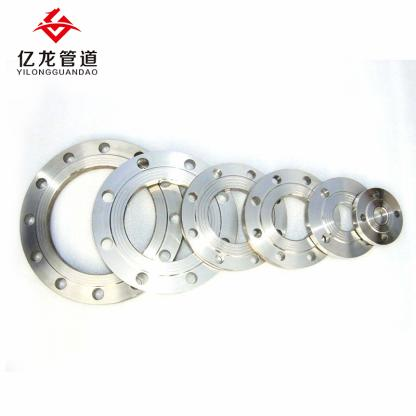FOD: (18, 132, 187, 306), (93, 148, 238, 301), (178, 160, 289, 274), (239, 165, 344, 271), (302, 176, 380, 261), (351, 183, 406, 250)
